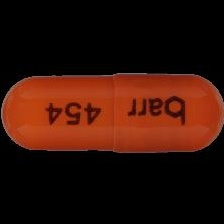0555-1056: (0, 0, 224, 224)
